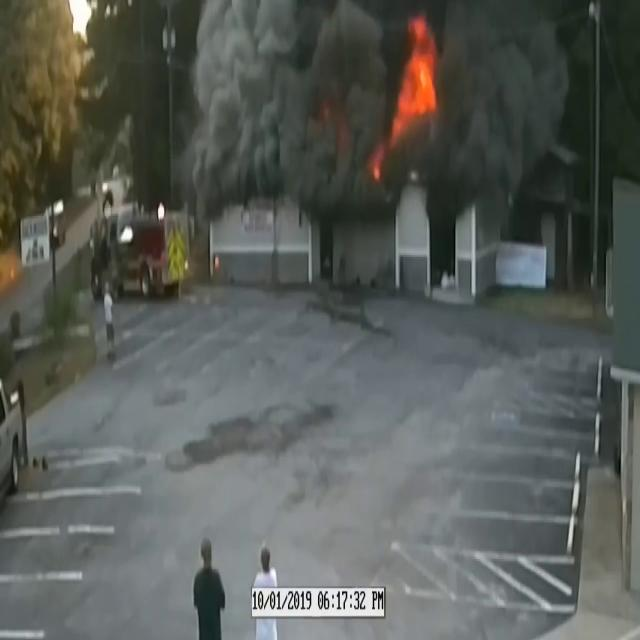Fire: (388, 17, 442, 146)
Smoke: (340, 0, 574, 237), (171, 0, 375, 239), (426, 4, 575, 238)
